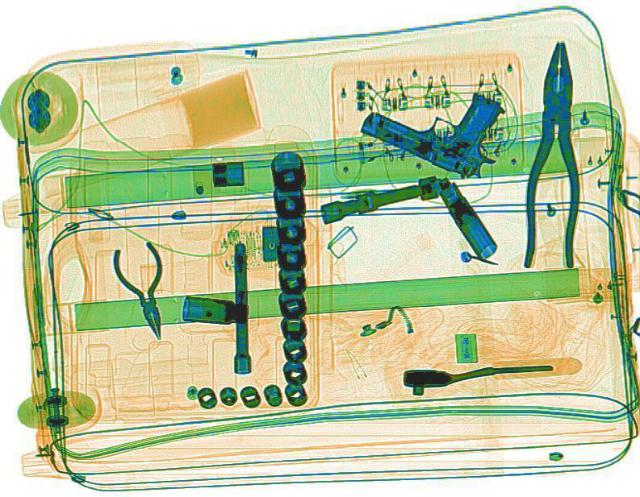Gun: (352, 63, 532, 182)
Pliers: (522, 38, 586, 271), (106, 240, 182, 341)
